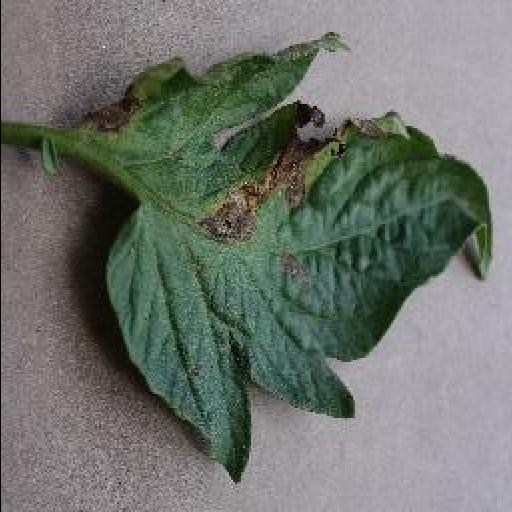disease_tomato: (89, 28, 495, 498)
